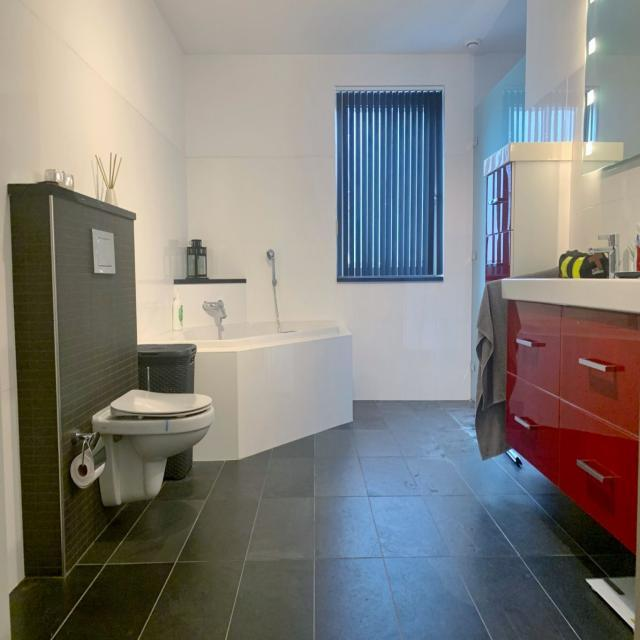bath: (143, 301, 352, 354)
douche: (470, 0, 527, 402)
toilet: (91, 228, 214, 507)
wastafel: (504, 299, 640, 554), (503, 233, 640, 280)
